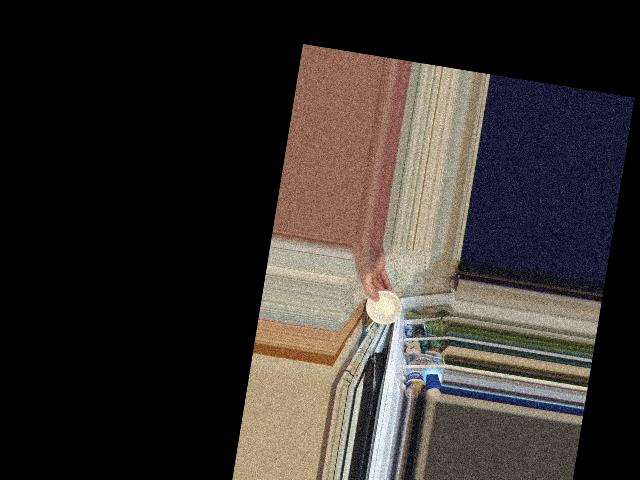cotage: (366, 286, 404, 328)
